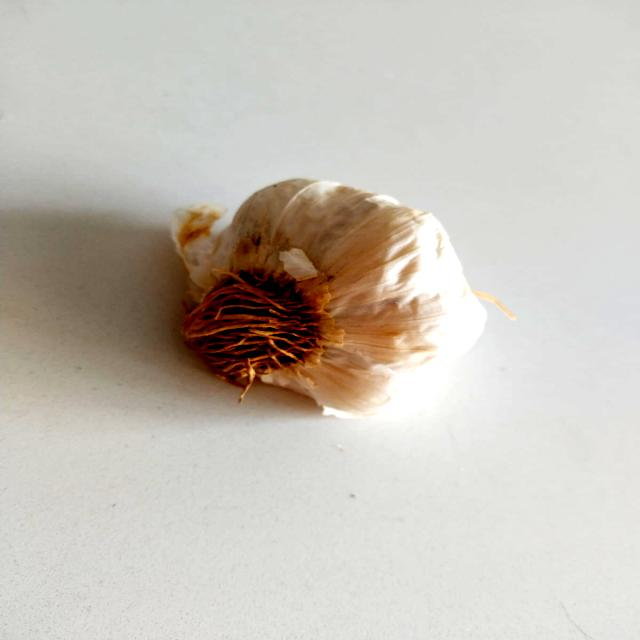garlic: (116, 142, 541, 436)
